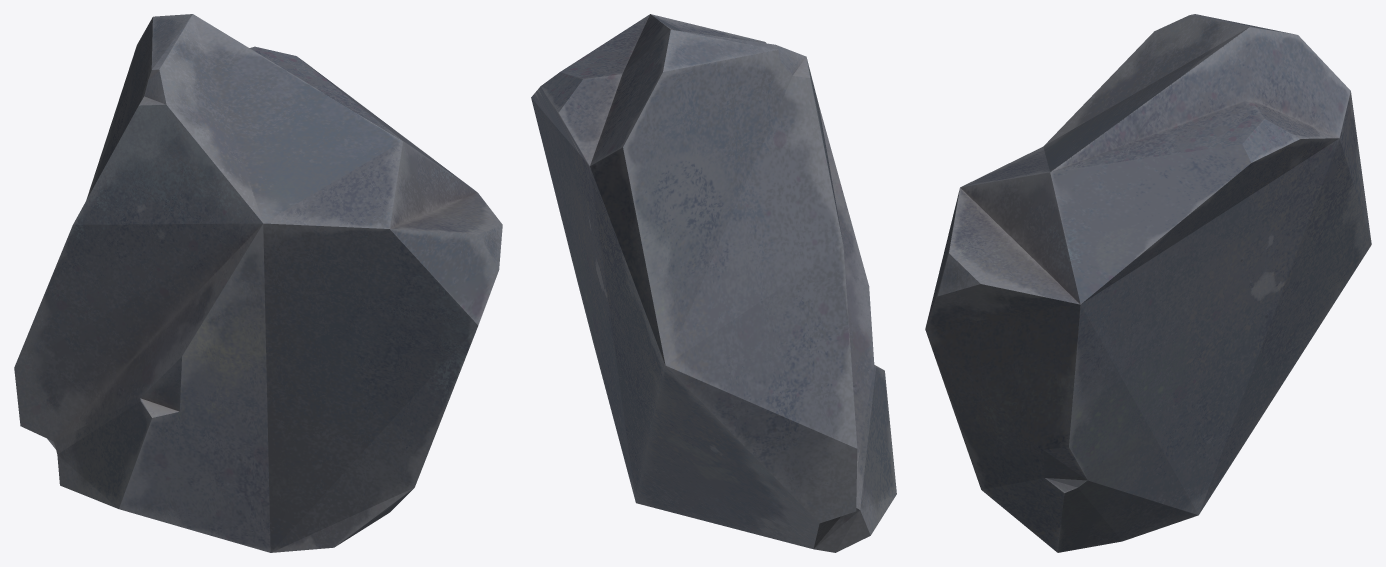
File: rock10.glb
3 renders of one model, left to right at view 1: azimuth 30°, elevation 25°; view 2: azimuth 150°, elevation 25°; view 3: azimuth 270°, elevation 25°, orthographic. The views are drawn at different scales.
Parts seen in each view (by area): view 1: Object_32; view 2: Object_32; view 3: Object_32.
Boxes of the visible parts, left/top/right/bottom form: Object_32: left=14, top=14, right=502, bottom=552; Object_32: left=531, top=14, right=896, bottom=552; Object_32: left=925, top=14, right=1371, bottom=552.
Bounding box in the file's own units: 1.17 × 1.45 × 1.17.
Materials: 1 (1 with a texture image).
